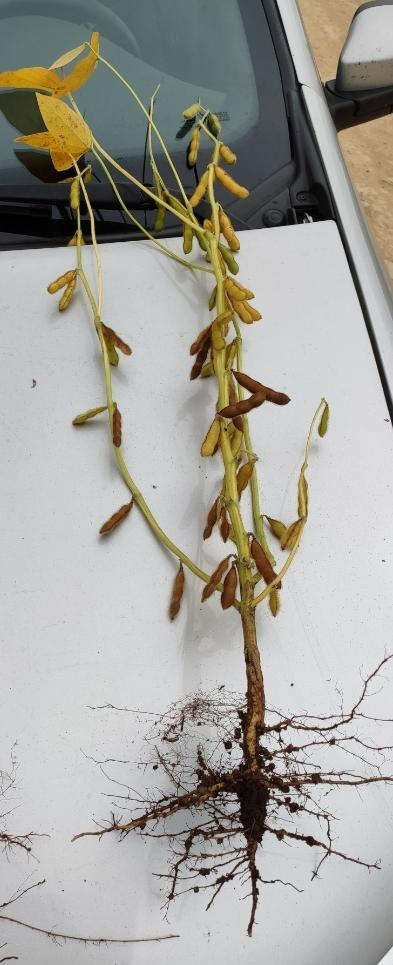soja: (233, 367, 294, 409), (248, 528, 285, 591), (93, 499, 139, 539), (224, 386, 269, 426), (166, 563, 191, 631), (212, 169, 257, 204), (164, 182, 199, 227), (202, 556, 232, 608), (92, 329, 125, 374), (102, 318, 141, 356), (217, 213, 252, 255), (296, 476, 326, 524), (217, 571, 248, 616), (64, 400, 117, 426), (216, 239, 247, 282), (228, 464, 262, 503), (183, 173, 217, 211), (178, 86, 209, 126), (193, 416, 222, 458), (40, 269, 77, 299), (198, 501, 220, 546), (265, 588, 295, 621), (226, 429, 254, 463), (185, 323, 209, 361), (276, 522, 305, 551), (219, 142, 247, 172), (70, 177, 96, 209), (59, 273, 78, 316), (243, 297, 268, 329), (113, 409, 132, 451), (211, 318, 233, 354), (191, 346, 211, 385), (226, 280, 251, 310), (315, 409, 335, 445), (215, 512, 236, 543), (187, 126, 203, 166), (232, 305, 255, 332), (200, 357, 220, 387), (206, 111, 232, 133), (153, 196, 169, 231), (235, 283, 262, 301), (205, 283, 222, 311), (182, 224, 193, 261)
